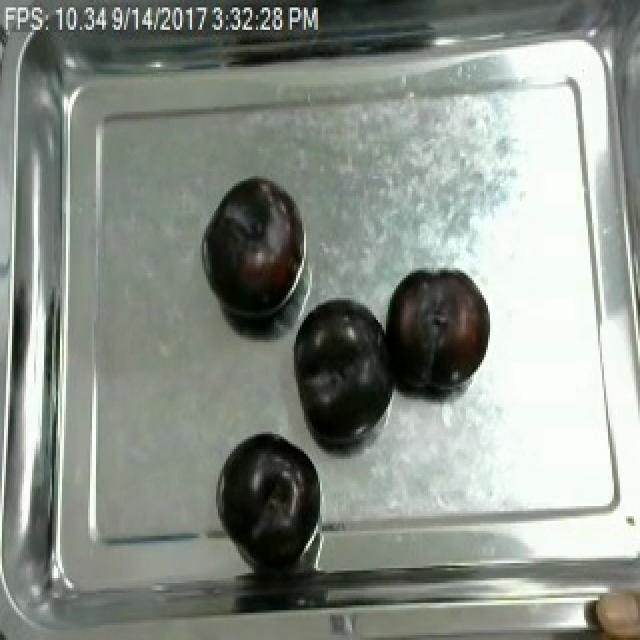Fruit: (290, 295, 400, 449), (198, 171, 306, 325), (214, 427, 324, 568), (378, 265, 494, 397), (588, 575, 640, 640)
